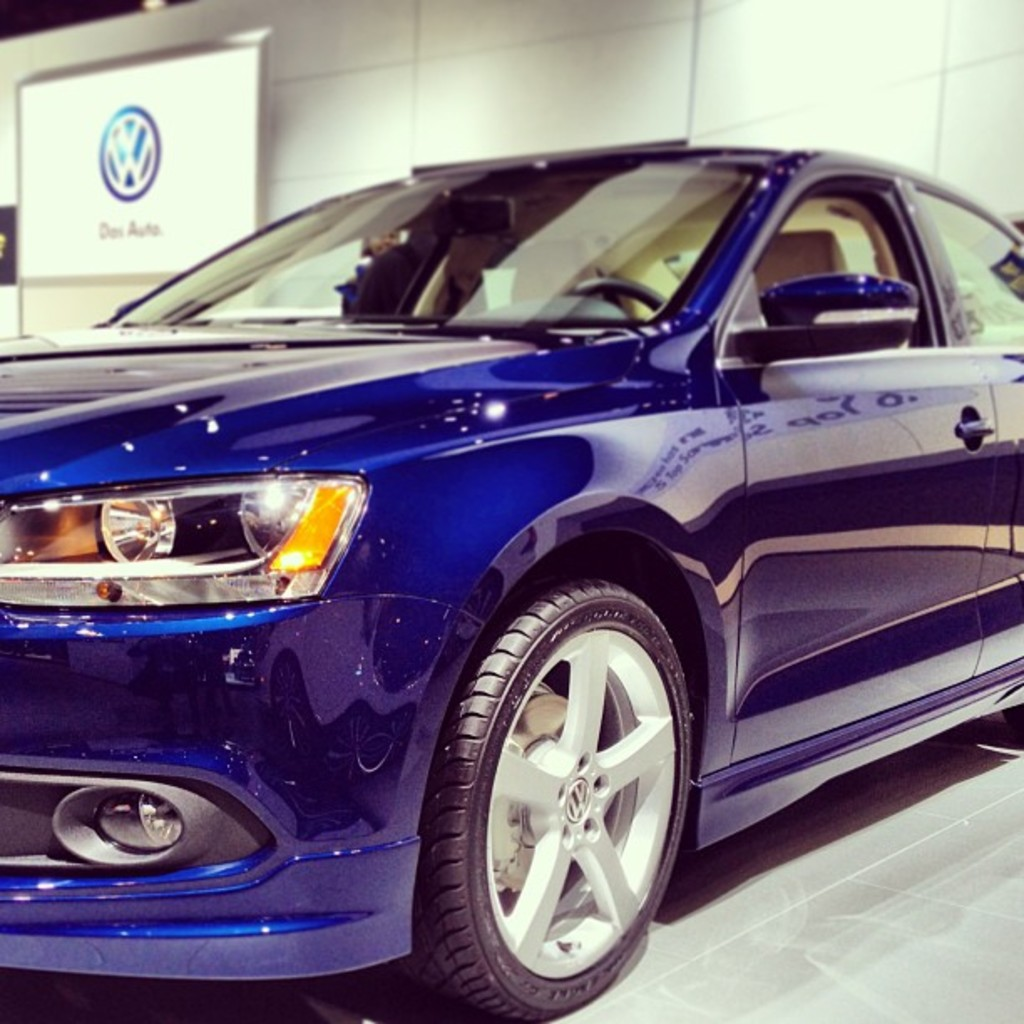Car: (0, 143, 1022, 1022)
